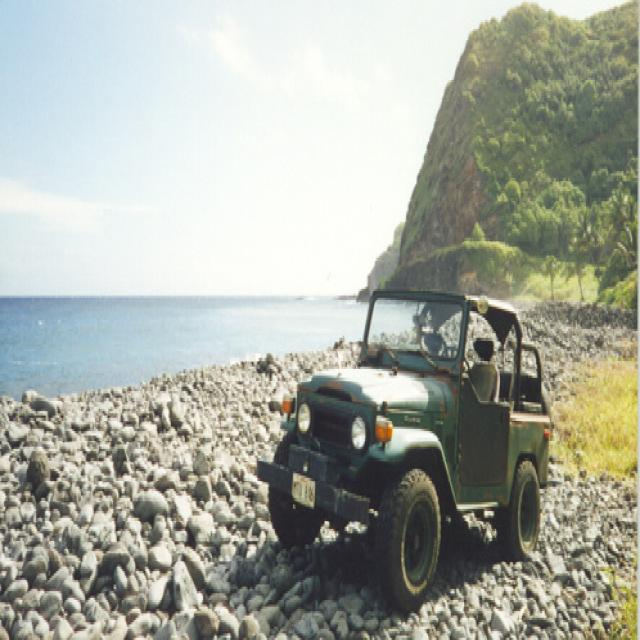car: (258, 283, 551, 603)
